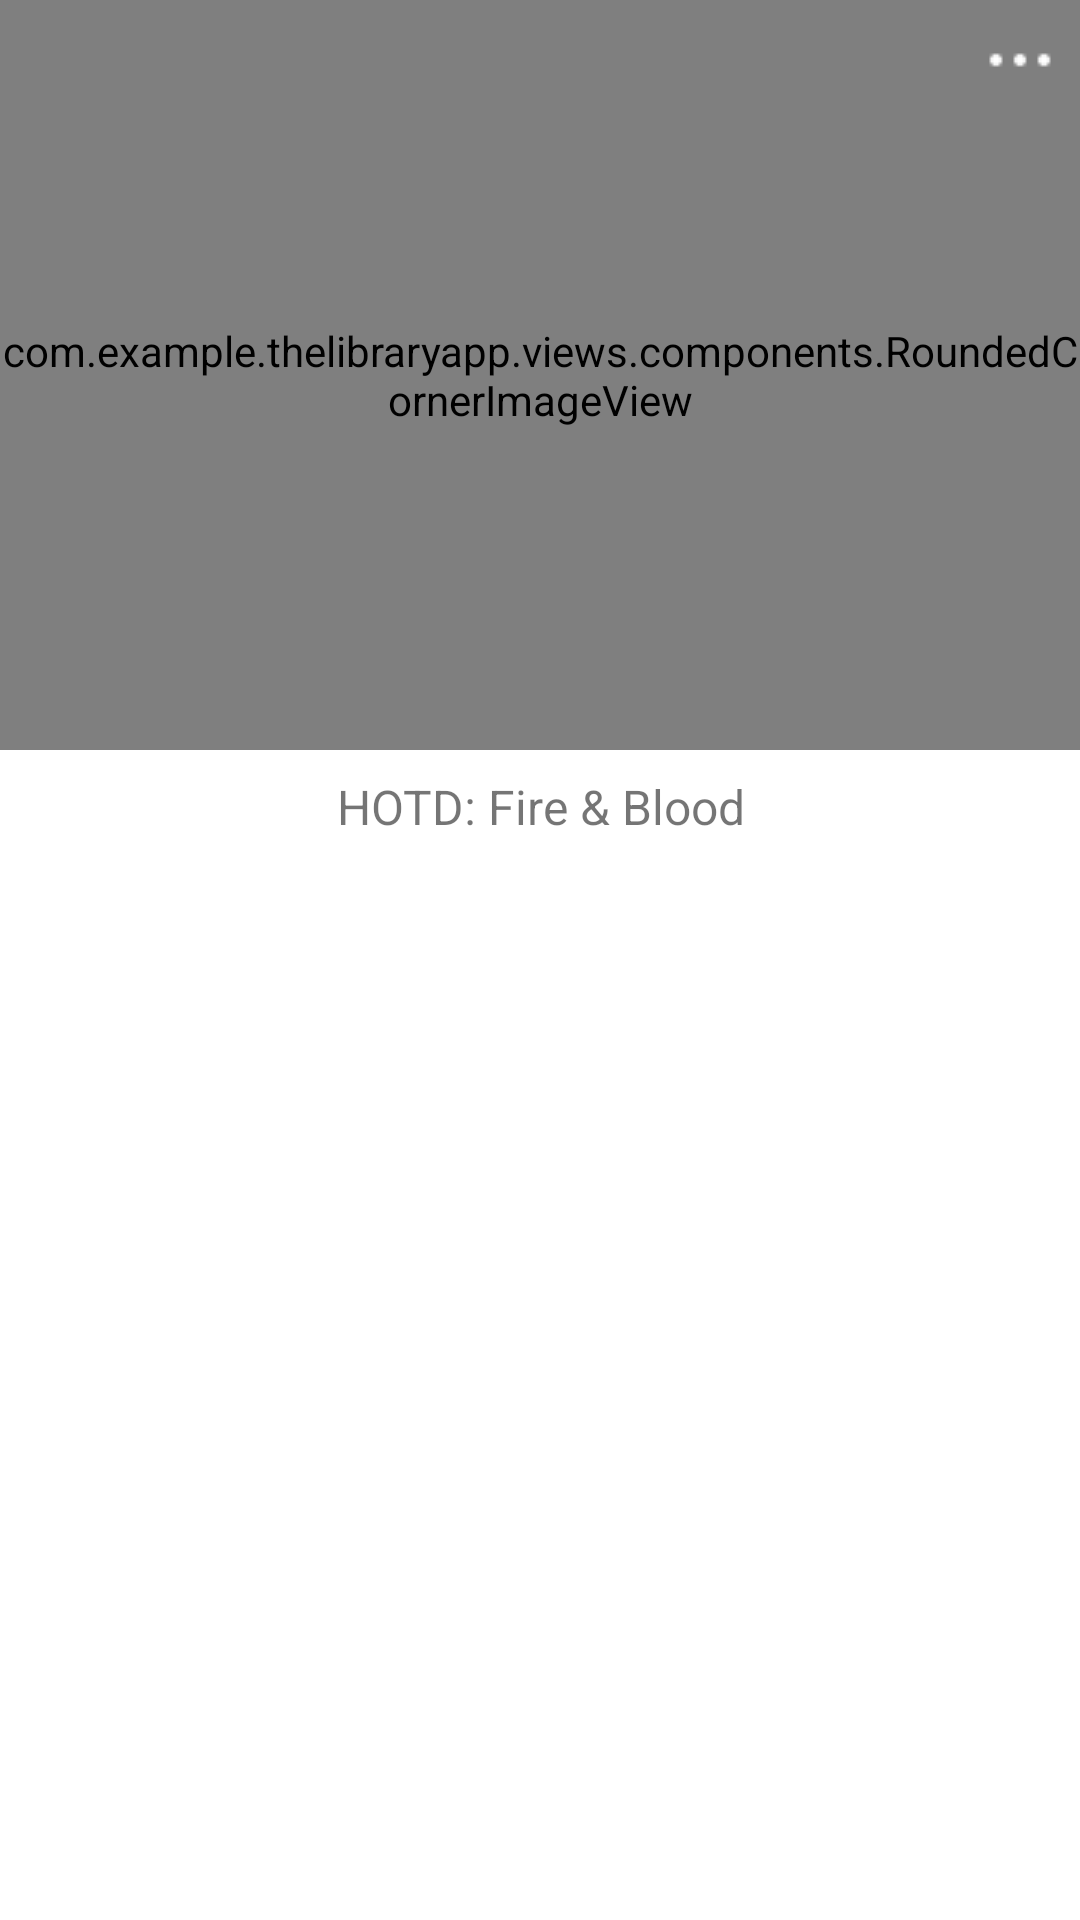

Screen size 1080 x 1920. Icon name, then its box in pixels as box=[x1, y1, x2, y2]:
option: box=[989, 53, 1051, 67]
